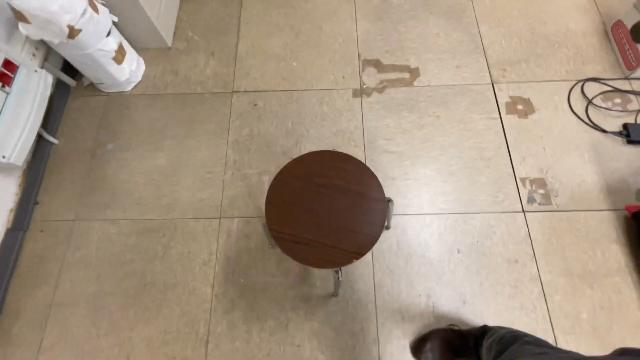Stool: (260, 146, 394, 302)
